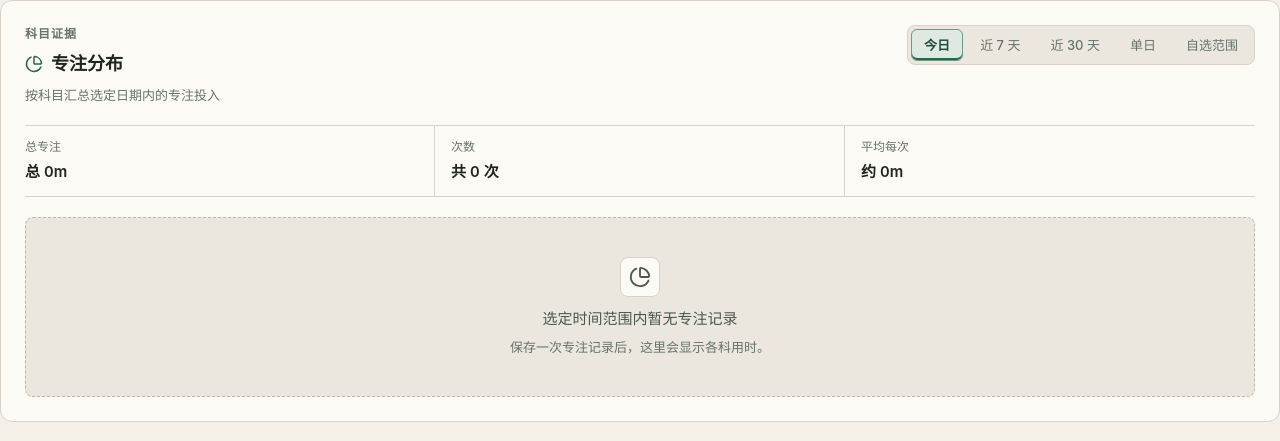
it: FocusDistributionChart › shows a validation message and does not load stats when custom dates are invalid
Click the button with test id "focus-range-custom".
click(1212, 45)  # box [1173,29,1251,61]
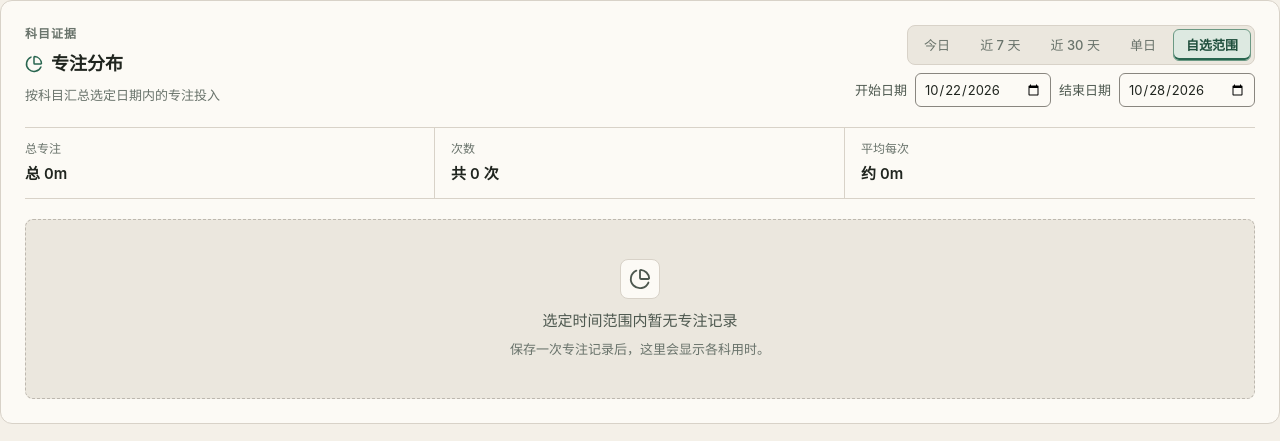
Type "2026-05-04" into the date field with test id "focus-range-start".
click(983, 90); type("2026-05-04")  # box [915,73,1051,107]
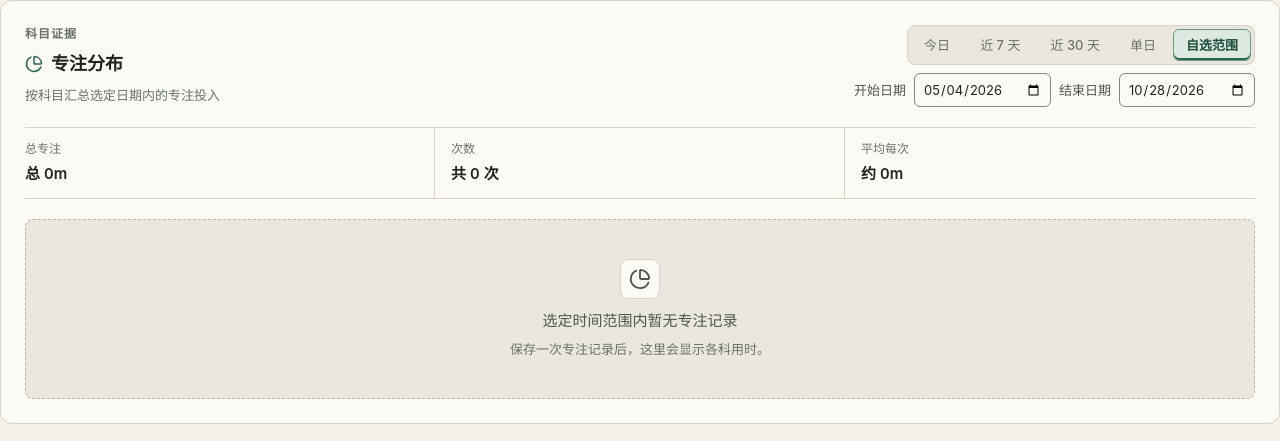
Type "2026-05-03" into the date field with test id "focus-range-end".
click(1187, 90); type("2026-05-03")  # box [1119,73,1255,107]
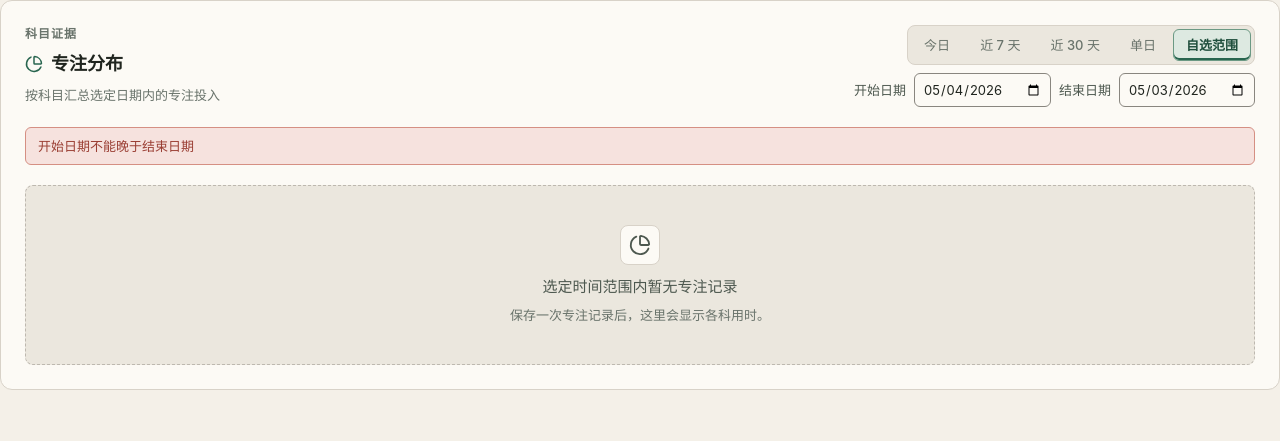
Expected: the message "开始日期不能晚于结束日期" is shown, [25,127,1255,165]
